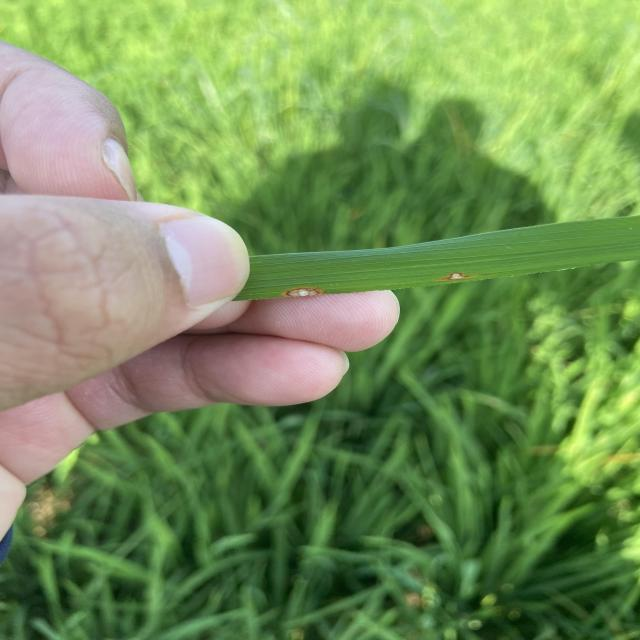Dao on: (283, 287, 324, 297), (447, 272, 465, 280)
